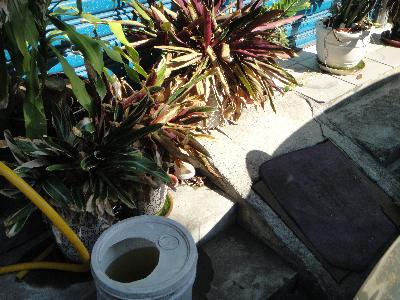bucket: (90, 214, 200, 300)
plate: (316, 55, 368, 78)
